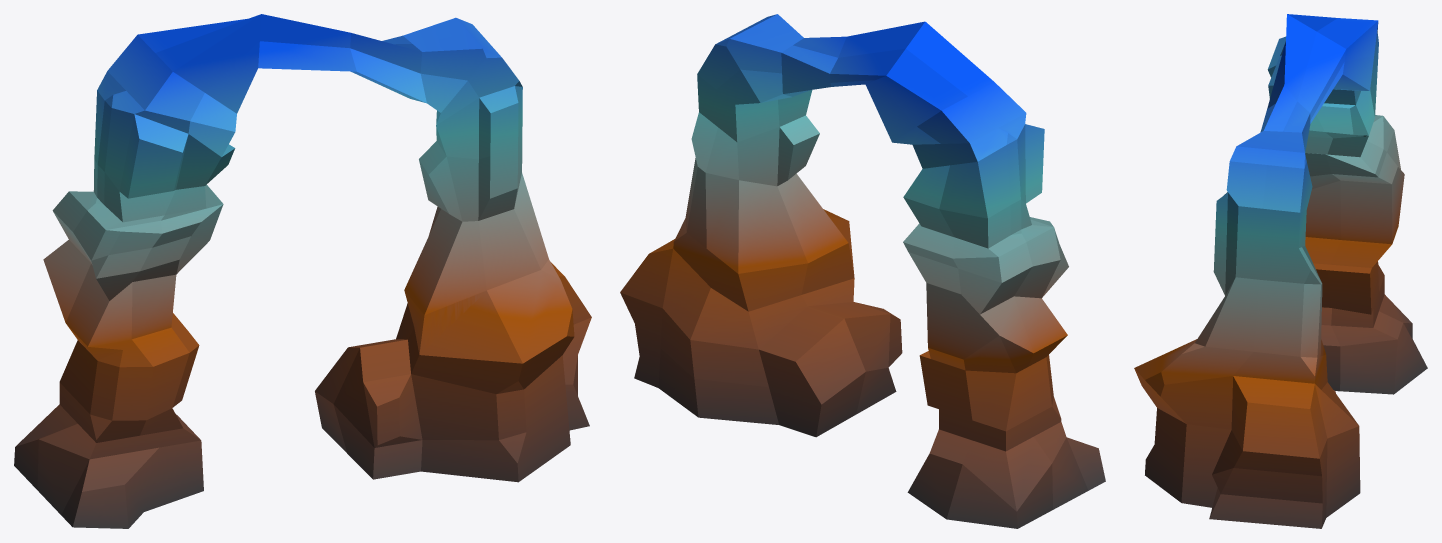
3 renders of one model, left to right at view 1: azimuth 30°, elevation 25°; view 2: azimuth 150°, elevation 25°; view 3: azimuth 270°, elevation 25°, orthographic. The views are drawn at different scales.
Visible parts, largest first — view 1: 立方体.026_Baked; view 2: 立方体.026_Baked; view 3: 立方体.026_Baked.
Boxes of the visible parts, x1=… form: 立方体.026_Baked: x1=14, y1=14, x2=591, y2=528; 立方体.026_Baked: x1=620, y1=14, x2=1105, y2=528; 立方体.026_Baked: x1=1134, y1=14, x2=1427, y2=528.
Bounding box in the file's own units: 58.17 × 50.33 × 33.64.
